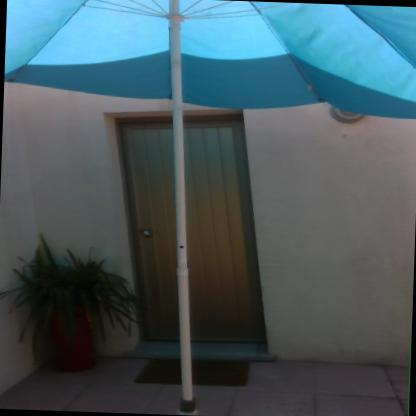closed: (116, 84, 266, 386)
